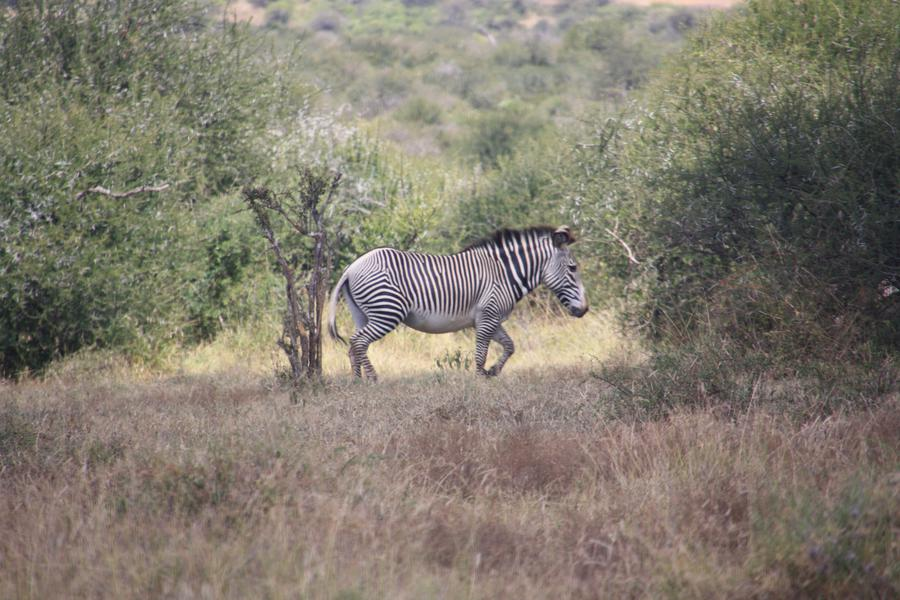zebra_grevys: (343, 244, 506, 319)
